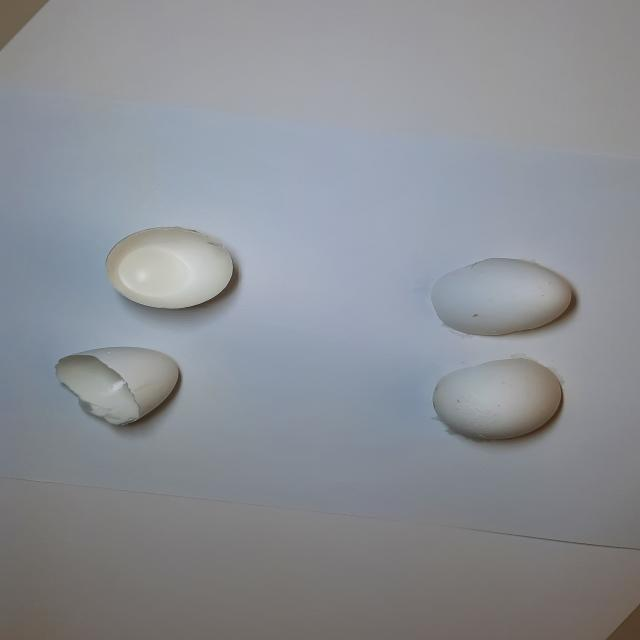egg shell: (410, 250, 584, 450), (414, 352, 569, 447), (424, 248, 578, 340), (43, 336, 187, 432), (100, 221, 244, 315)
